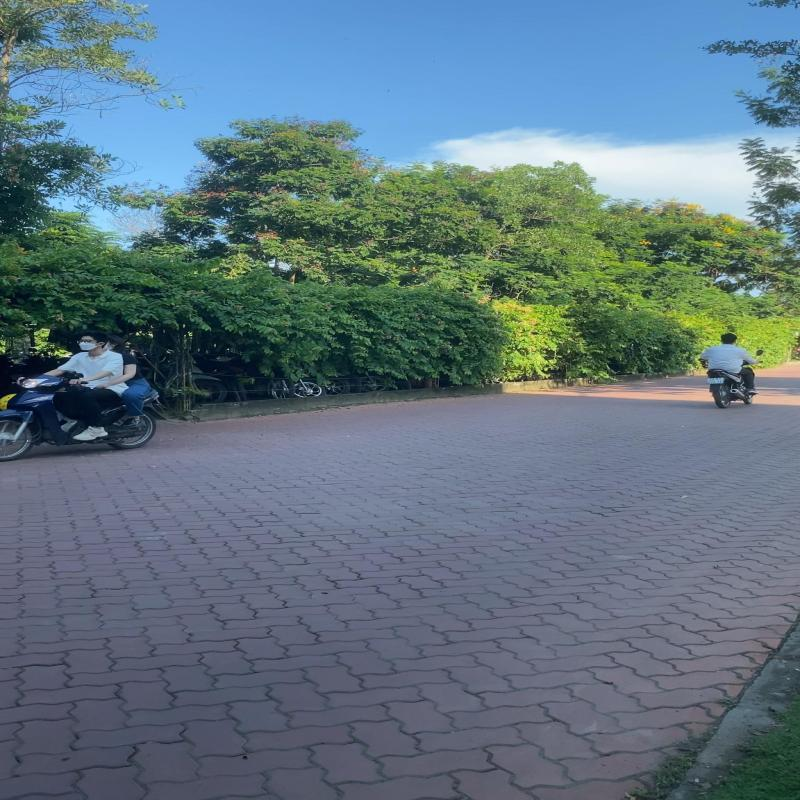licenseplate: (708, 378, 724, 384)
motorcyclist: (700, 333, 760, 408)
nohelmet: (720, 333, 738, 345)
